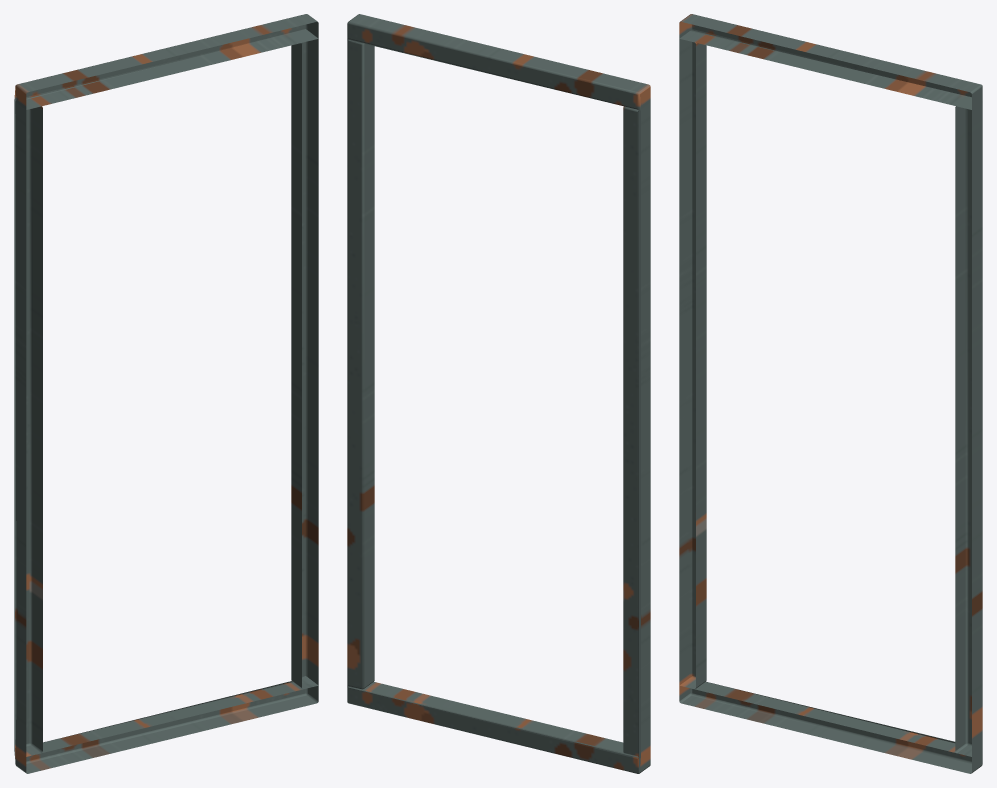
File: CuaSatHam_Khung.glb
3 views of the same model, side by side, from view 1: azimuth 30°, elevation 25°; view 2: azimuth 150°, elevation 25°; view 3: azimuth 330°, elevation 25° (orthographic).
Visible parts, largest first — view 1: geometry_0; view 2: geometry_0; view 3: geometry_0.
Part boxes in pixels (box(x1,y1,x2,y2)): geometry_0: box(14, 14, 318, 773); geometry_0: box(347, 14, 650, 773); geometry_0: box(679, 14, 982, 773).
Size of the model in its own units: 0.8834 by 1.96 by 0.06.
1 material, 1 textured.
